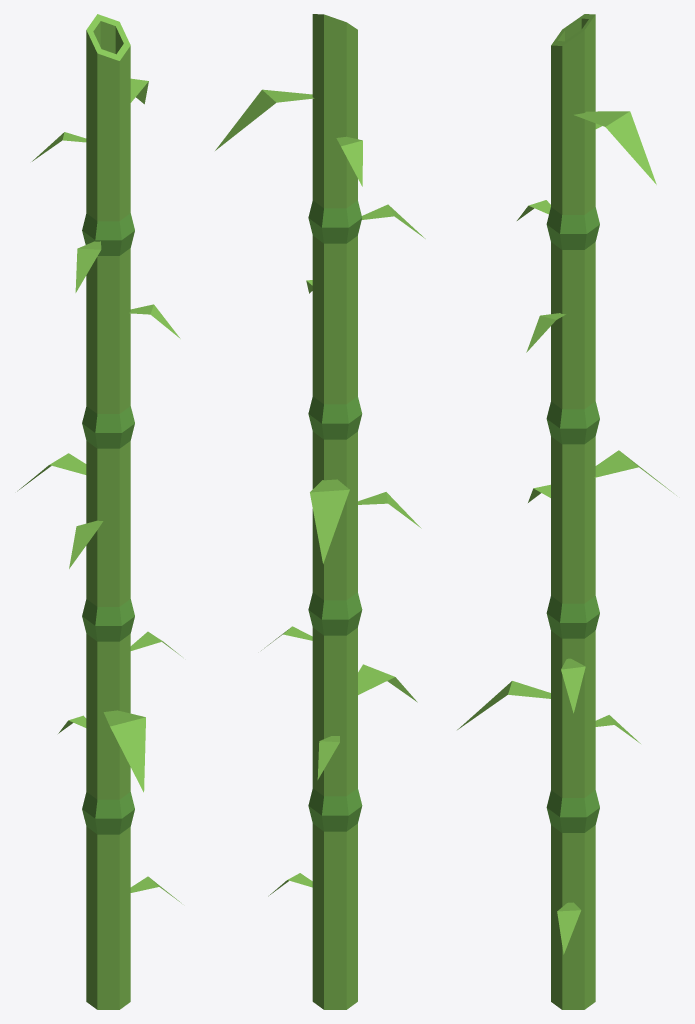
The model's file is Bamboo_01.fbx.
The picture shows the model from 3 angles, left to right: view 1: azimuth 30°, elevation 25°; view 2: azimuth 150°, elevation 25°; view 3: azimuth 270°, elevation 25°; orthographic projection.
Visible parts, largest first — view 1: Bamboo_01; view 2: Bamboo_01; view 3: Bamboo_01.
Part boxes in pixels (x1=…): Bamboo_01: x1=17, y1=14, x2=181, y2=1009; Bamboo_01: x1=215, y1=14, x2=425, y2=1009; Bamboo_01: x1=457, y1=14, x2=676, y2=1009.
Bounding box in the file's own units: 57.78 × 387 × 79.91.
